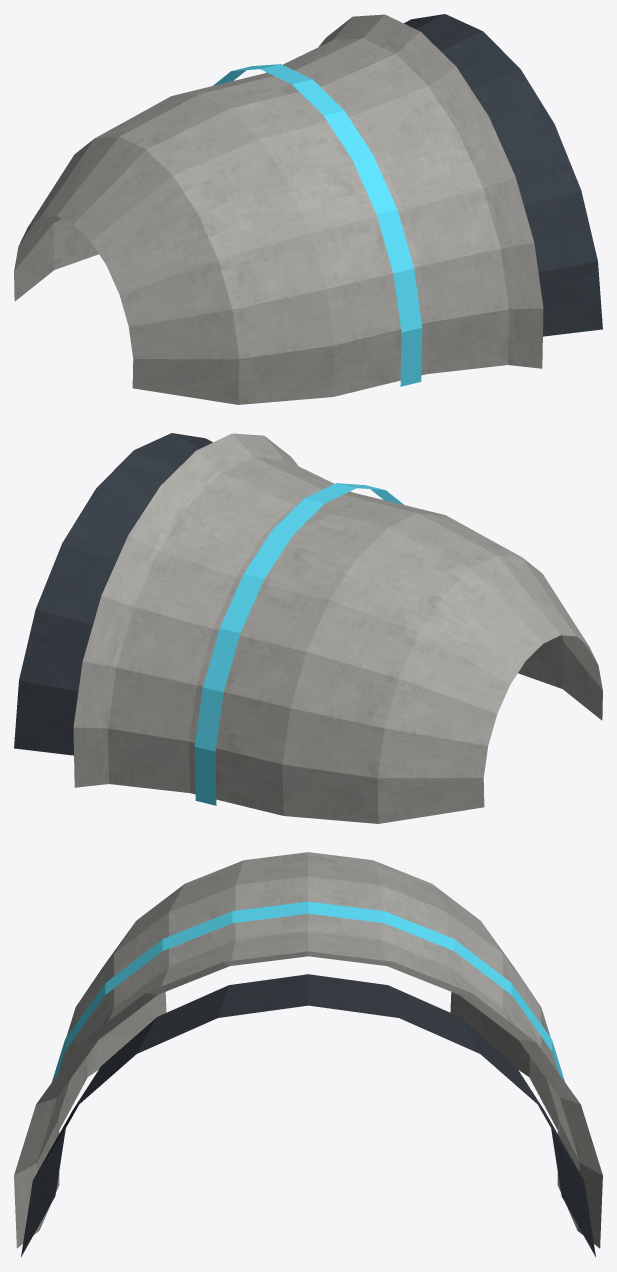
The model's file is eq_future_2_shoulder.glb.
3 views of the same model, one above another, from view 1: azimuth 30°, elevation 25°; view 2: azimuth 150°, elevation 25°; view 3: azimuth 270°, elevation 25° (orthographic). The views are drawn at different scales.
Visible parts, largest first — view 1: eq_future_2_shoulder; view 2: eq_future_2_shoulder; view 3: eq_future_2_shoulder.
Boxes of the visible parts, x1=… form: eq_future_2_shoulder: x1=14, y1=14, x2=602, y2=404; eq_future_2_shoulder: x1=14, y1=433, x2=602, y2=823; eq_future_2_shoulder: x1=14, y1=852, x2=602, y2=1256.
Size of the model in its own units: 0.2049 by 0.1186 by 0.2129.
3 materials, 3 textured.
